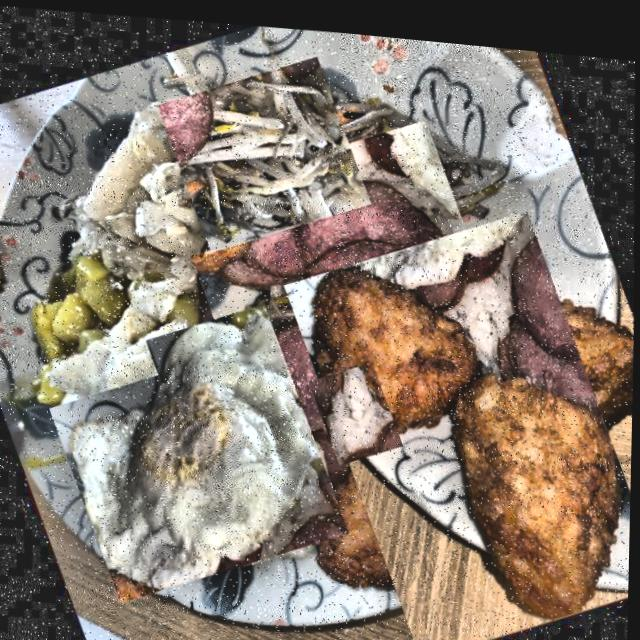Food: (259, 195, 637, 640), (164, 89, 526, 462), (33, 278, 356, 619), (147, 36, 377, 264), (50, 91, 214, 287), (0, 236, 162, 418), (304, 351, 409, 461)
